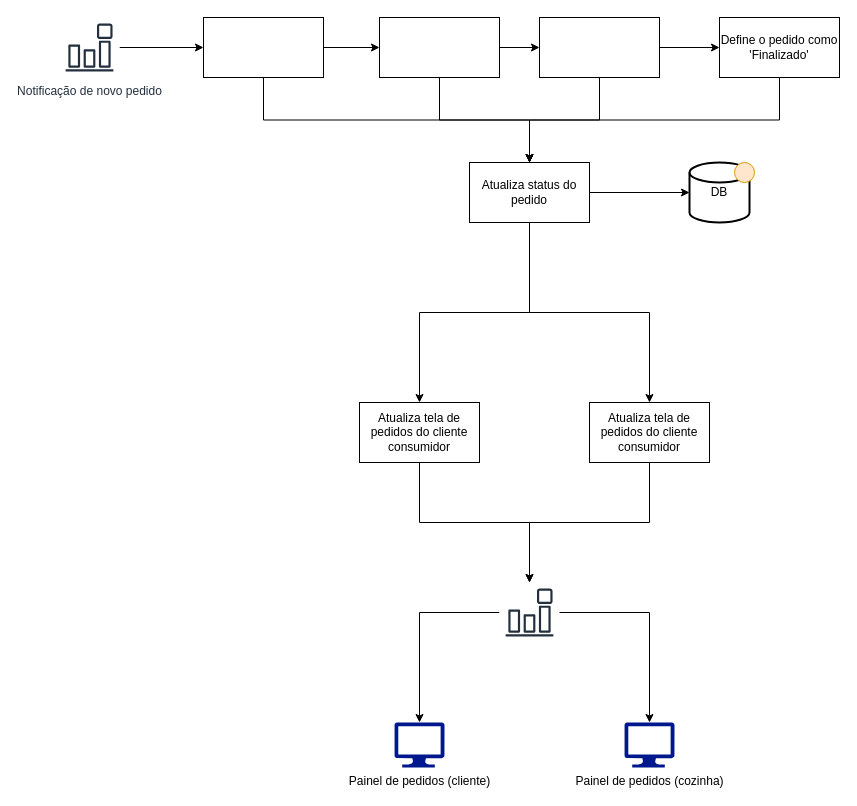
This 857x806 diagram has some shape labels left out. The centre of each missing label's shape, as x and y in pixels:
Define o pedido como 'Em Preparo': point (439, 47)
Define o pedido como 'Pronto': point (599, 47)
Define o pedido como 'Recebido': point (263, 47)
Fila atualizada (Websocket): point (529, 612)
